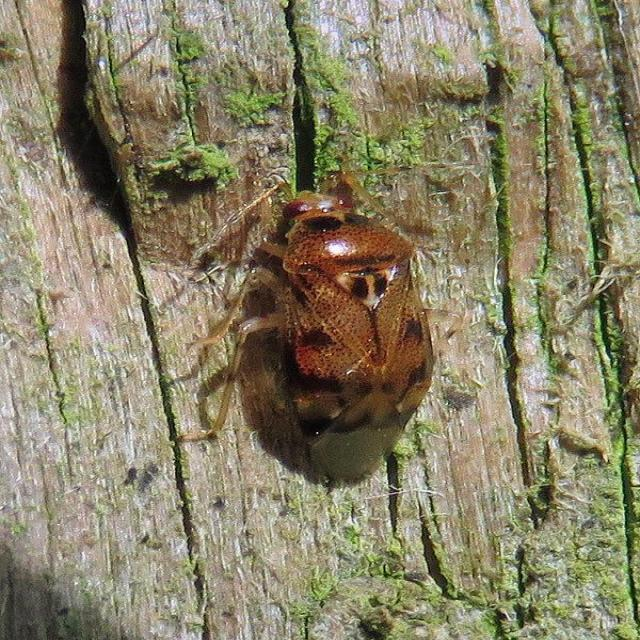Miridae-Adult-: (170, 132, 476, 492)
